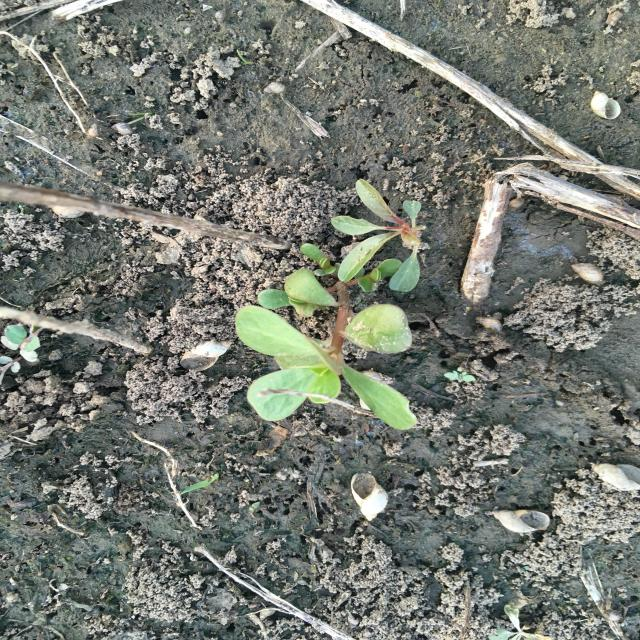Purslane: (233, 242, 420, 433)
Waterhemp: (330, 178, 428, 293)
